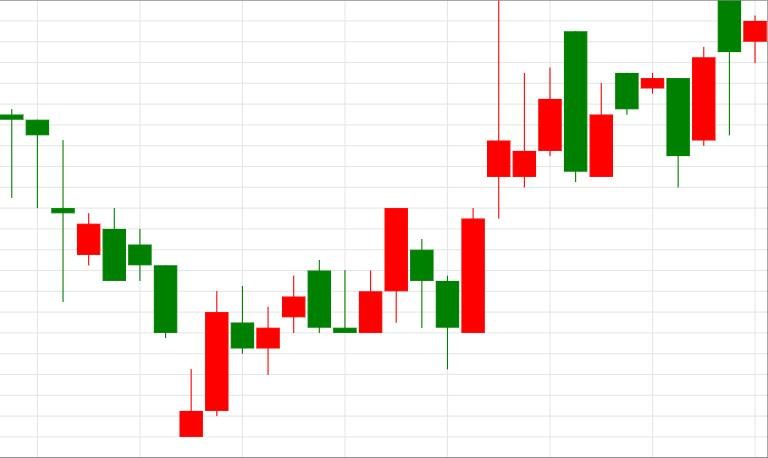bearish_engulfing_fall: (462, 0, 587, 334)
inverse_hammer_rise: (1, 108, 202, 437)
